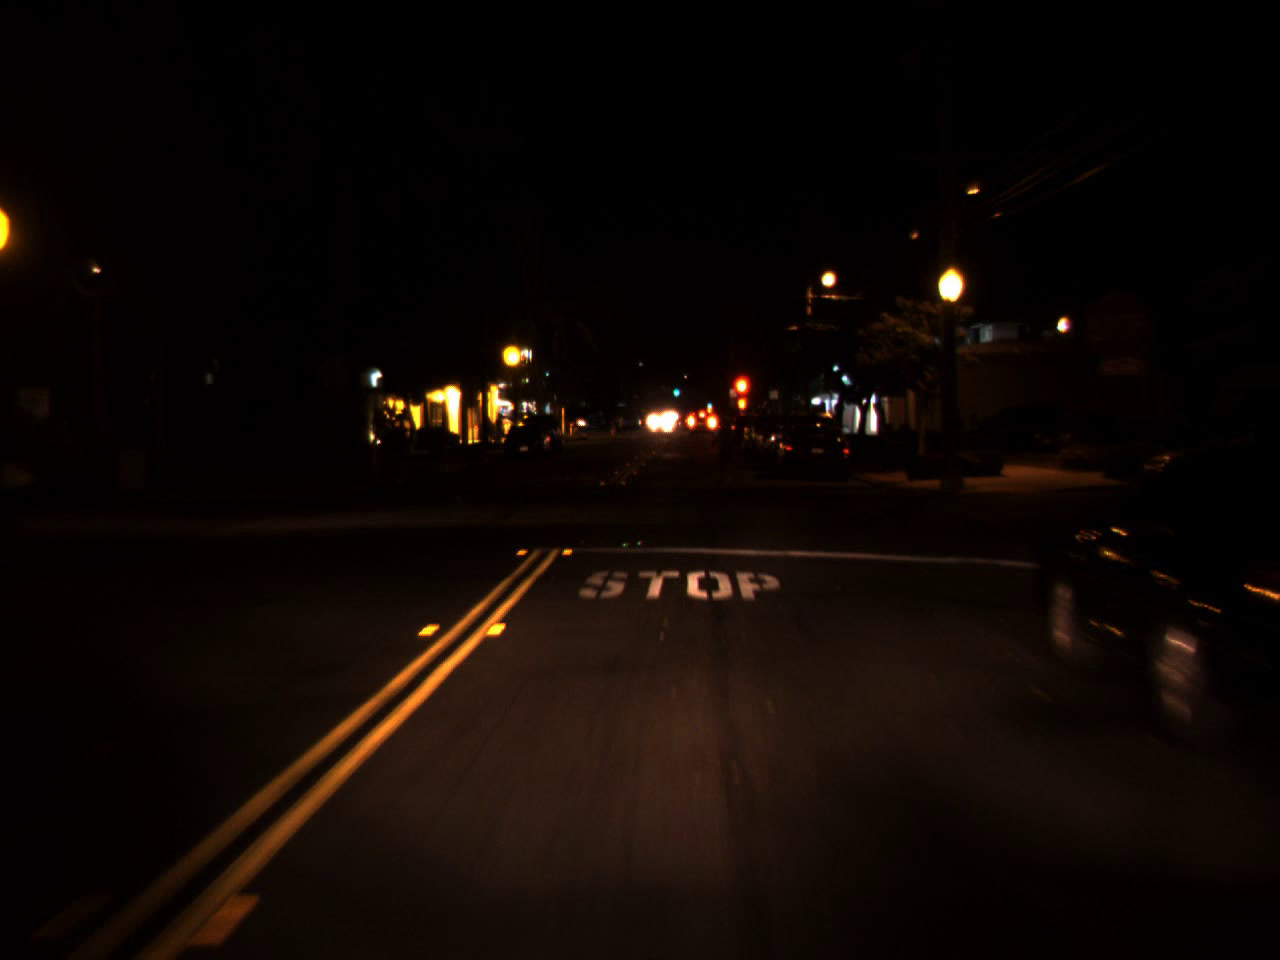go: (671, 384, 680, 396), (705, 396, 712, 408)
stop: (730, 371, 754, 419)
